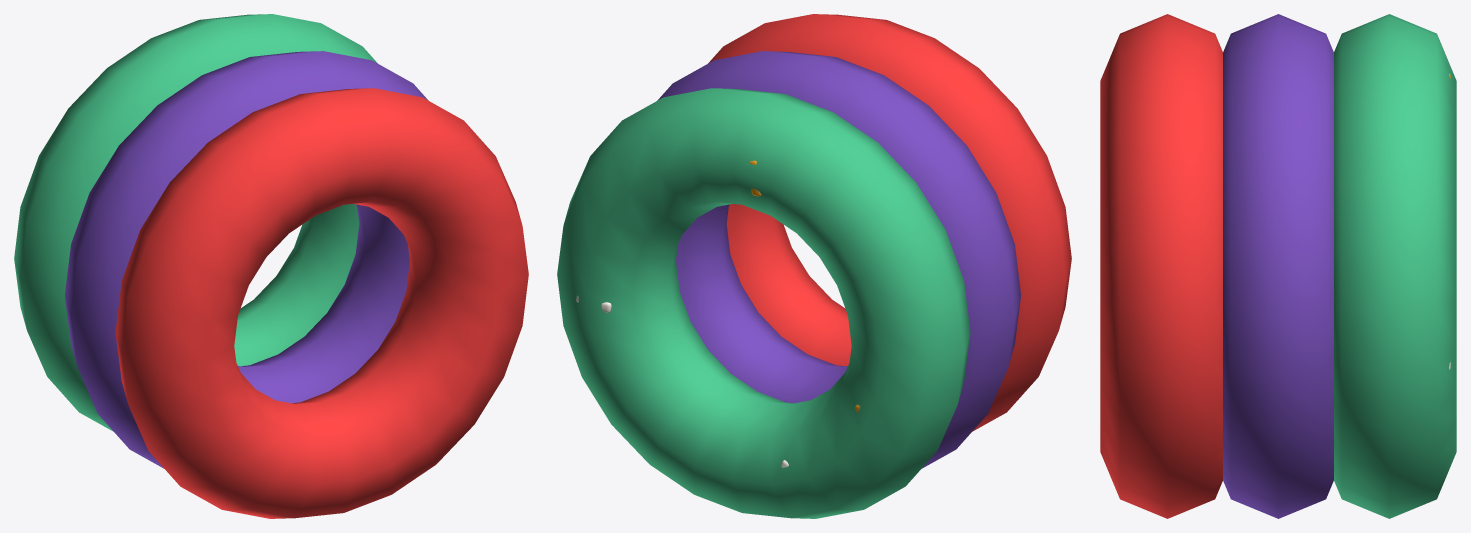
File: PlayfulDonutStack.fbx
3 renders of one model, left to right at view 1: azimuth 30°, elevation 25°; view 2: azimuth 150°, elevation 25°; view 3: azimuth 270°, elevation 25°, orthographic. The views are drawn at different scales.
Visible parts, largest first — view 1: PlayfulDonutStack; view 2: PlayfulDonutStack; view 3: PlayfulDonutStack.
Part boxes in pixels (x1,y1,x2,y2): PlayfulDonutStack: (14, 14, 528, 518); PlayfulDonutStack: (557, 14, 1071, 518); PlayfulDonutStack: (1100, 14, 1456, 518).
Size of the model in its own units: 0.64 by 0.64 by 0.45.
